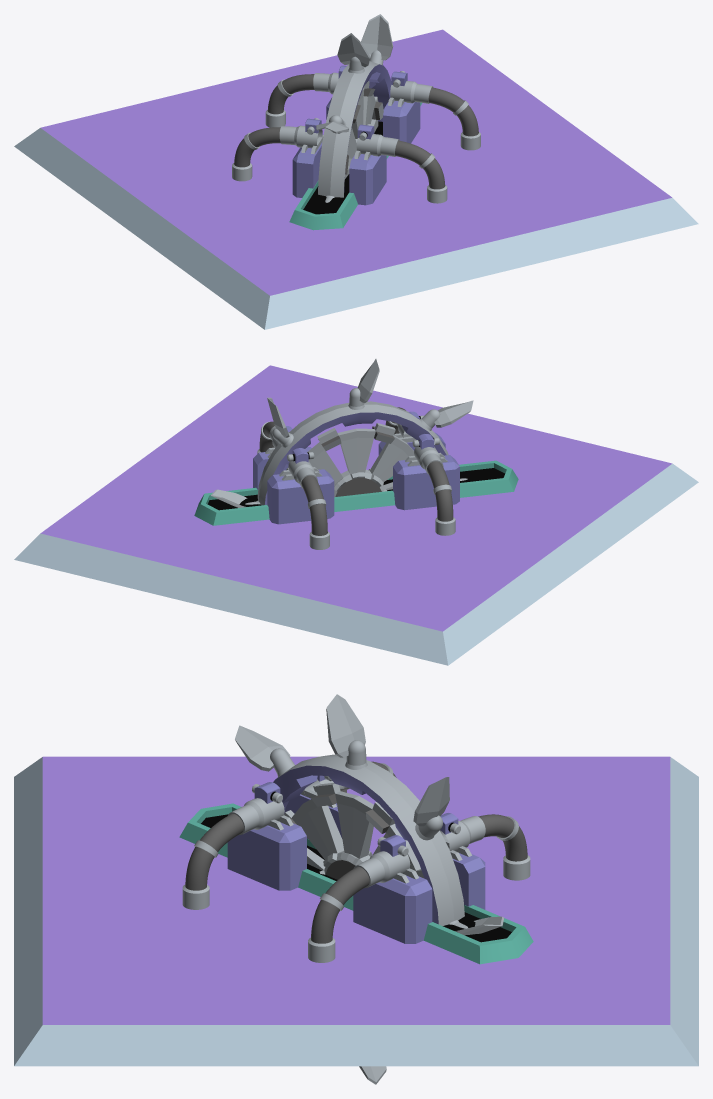
The model's file is 56_Haarvester_FUD1.fbx.
3 views of the same model, one above another, from view 1: azimuth 30°, elevation 25°; view 2: azimuth 150°, elevation 25°; view 3: azimuth 270°, elevation 25° (orthographic). The views are drawn at different scales.
Parts seen in each view (by area): view 1: foundation1, pCylinder116 (×4), pPipe28, harv1, pPlane33 (×2), pCube123, pCube128, pCylinder115, pCube127; view 2: foundation1, pCube127 (×2), harv1, pCylinder115, pCylinder116 (×2), pPipe28, pPlane33 (×2); view 3: foundation1, pCylinder116 (×3), pPipe28, pCylinder115, harv1, pCube128, pCube123, pPlane33 (×3), pCube127.
Part boxes in pixels (x1,y1,x2,y2): foundation1: [14, 29, 698, 329]; pCylinder116 (×4): [232, 65, 480, 203]; pPipe28: [318, 61, 391, 197]; harv1: [289, 102, 422, 230]; pPlane33 (×2): [337, 14, 393, 67]; pCube123: [349, 154, 386, 205]; pCube128: [383, 101, 420, 143]; pCylinder115: [344, 81, 383, 179]; pCube127: [292, 134, 323, 197]; foundation1: [14, 365, 698, 665]; pCube127 (×2): [267, 455, 459, 524]; harv1: [194, 460, 518, 525]; pCylinder115: [286, 423, 414, 497]; pCylinder116 (×2): [288, 434, 455, 549]; pPipe28: [257, 401, 448, 505]; pPlane33 (×2): [357, 359, 473, 427]; foundation1: [14, 756, 698, 1066]; pCylinder116 (×3): [182, 782, 530, 962]; pPipe28: [273, 754, 464, 925]; pCylinder115: [284, 783, 424, 879]; harv1: [179, 803, 533, 964]; pCube128: [353, 875, 432, 943]; pCube123: [227, 822, 306, 890]; pPlane33 (×3): [235, 694, 449, 826]; pCube127: [453, 853, 485, 909].
Bounding box in the file's own units: 2 × 1.21 × 2.
